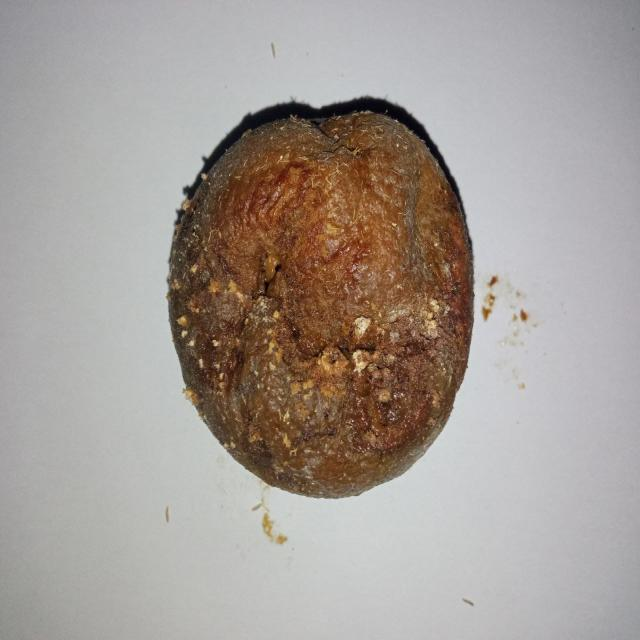rotten_orange: (166, 107, 470, 493)
